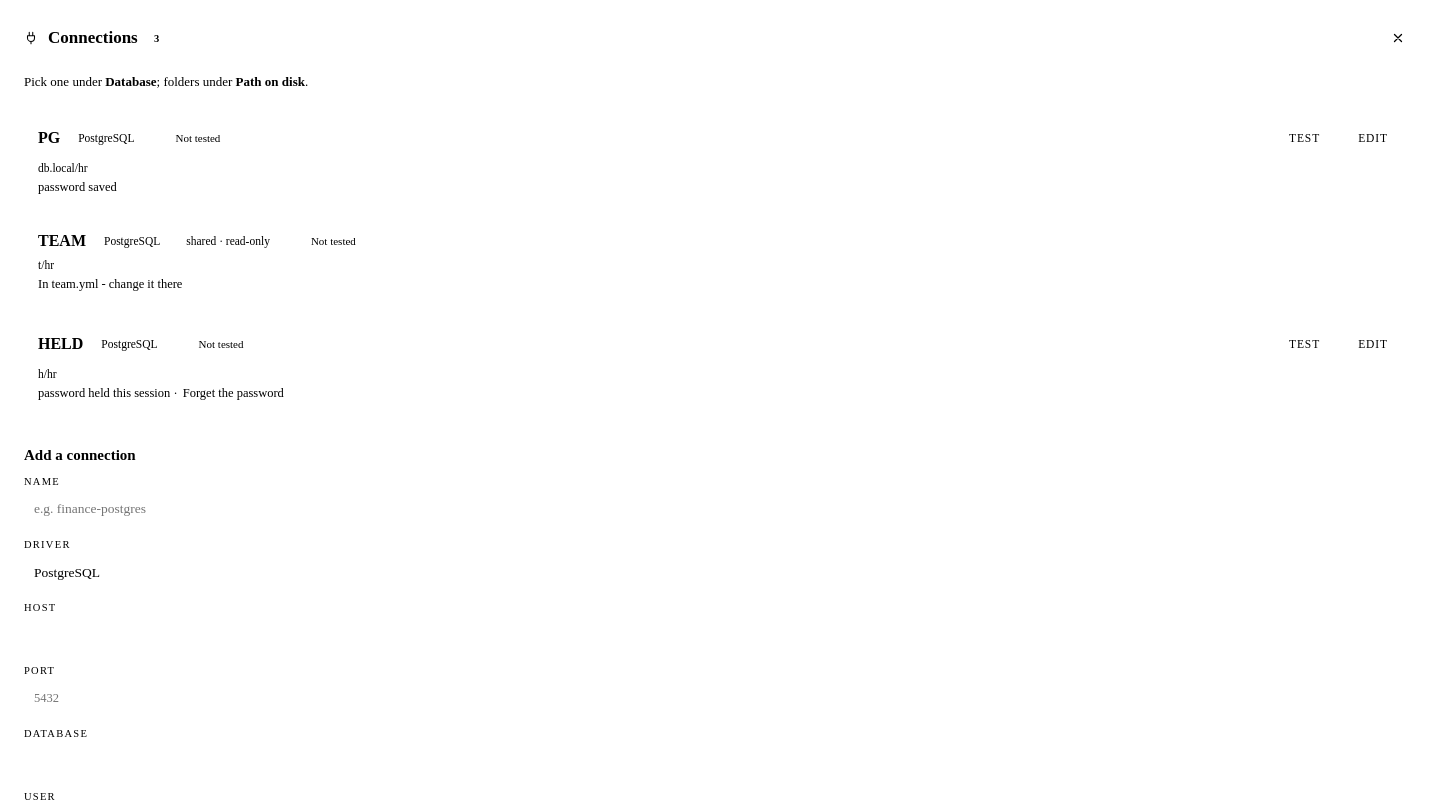
Test case: Test on a card tests the saved connection and its pill says Connected or Failed
This screenshot has width=1440, height=807.
Click the button with aria-label "Test PG": (1305, 138) x1=1275 y1=120 x2=1334 y2=156
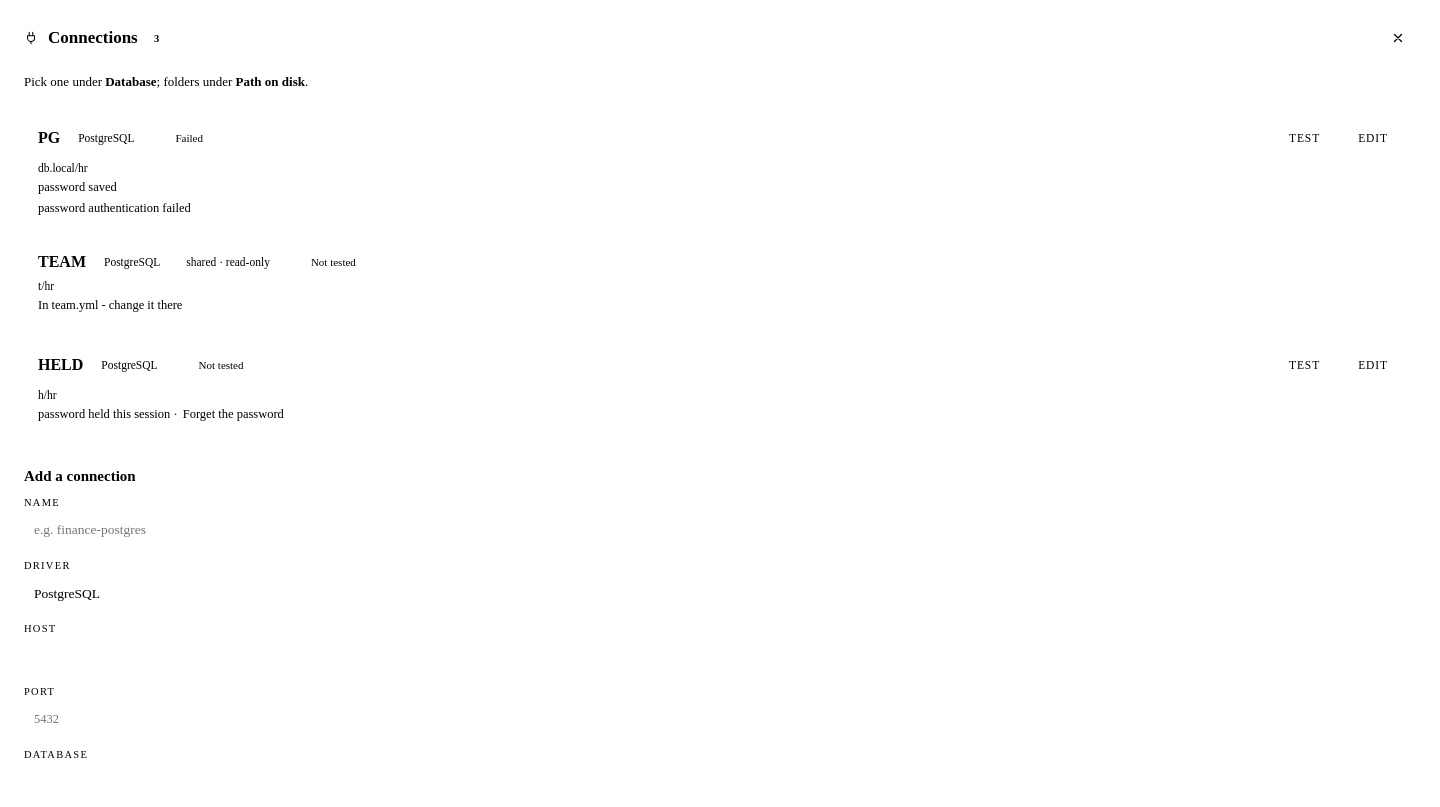
Expected: the text "Failed" is shown, x1=176 y1=132 x2=203 y2=144
Expected: the text "password authentication failed" is shown, x1=38 y1=201 x2=191 y2=215
